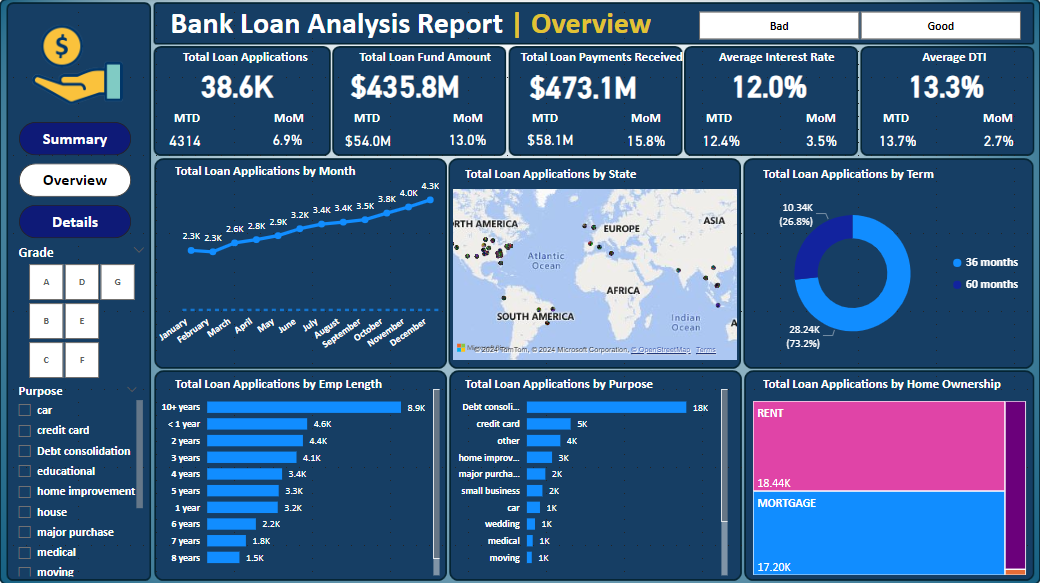

This screenshot's page, from the dashboard's own definition file:
{"tool":"powerbi","page":{"name":"Overview","canvas":[1280,720],"ordinal":1},"visuals":[{"type":"card","fields":{"Values":["Measure Table.Total Loan Payment Amount Received"]},"box":[641.1,75.1,152.9,61.4],"z":0},{"type":"card","fields":{"Values":["Measure Table.Tota Loan Fund Amount"]},"box":[421.8,72.2,152.9,64.3],"z":1000},{"type":"card","fields":{"Values":["Measure Table.Total loan applications"]},"box":[228.8,73.8,125.3,62.7],"z":2000},{"type":"card","fields":{"Values":["Measure Table.Average Of DTI"]},"box":[1101.3,73.8,125.3,62.7],"z":3000},{"type":"card","fields":{"Values":["Measure Table.Average Interest Rate"]},"box":[883.8,73.8,125.3,62.7],"z":4000},{"type":"textbox","box":[629.4,56,223.6,30.9],"z":5000},{"type":"textbox","box":[430.3,56,185.3,29.3],"z":6000},{"type":"textbox","box":[209.3,56,185.3,29.3],"z":7000},{"type":"textbox","box":[1081.8,56,185.3,29.3],"z":8000},{"type":"textbox","box":[844.4,56,223.6,30.9],"z":9000},{"type":"textbox","box":[649.3,131.8,93.3,40],"z":10000},{"type":"textbox","box":[430.3,131.8,93.3,40],"z":11000},{"type":"textbox","box":[209.3,131.8,93.3,40],"z":12000},{"type":"textbox","box":[1081.8,131.8,93.3,40],"z":13000},{"type":"textbox","box":[864.4,131.8,93.3,40],"z":14000},{"type":"textbox","box":[772,131.8,62.7,40],"z":15000},{"type":"textbox","box":[553,131.8,62.7,40],"z":16000},{"type":"textbox","box":[332,131.8,62.7,40],"z":17000},{"type":"textbox","box":[1204.5,131.8,62.7,40],"z":18000},{"type":"textbox","box":[987.1,131.8,62.7,40],"z":19000},{"type":"textbox","box":[190,1.2,632.5,61.2],"z":20000},{"type":"card","fields":{"Values":["Measure Table.MTD Total Loan Payments Received"]},"box":[636.4,156.4,81.8,34.5],"z":21000},{"type":"card","fields":{"Values":["Measure Table.MTD Total Loan Fund Amount"]},"box":[410.8,157.2,83.8,33.8],"z":22000},{"type":"card","fields":{"Values":["Measure Table.MTD Total Loan Applications"]},"box":[200,157.3,56.4,33.6],"z":23000},{"type":"card","fields":{"Values":["Measure Table.MTD Average DTI"]},"box":[1068.2,157.3,72.7,33.6],"z":24000},{"type":"card","fields":{"Values":["Measure Table.MTD Average Interest Rate"]},"box":[852.7,157.3,69.1,33.6],"z":25000},{"type":"card","fields":{"Values":["Measure Table.MoM Total Loan Payment Received"]},"box":[755.5,157.3,78.2,33.6],"z":26000},{"type":"card","fields":{"Values":["Measure Table.MoM Total Loan Fund Amount"]},"box":[546.3,157.6,57.3,33.3],"z":27000},{"type":"card","fields":{"Values":["Measure Table.MoM Total Loan Applications"]},"box":[325.3,157.6,57.3,33.3],"z":28000},{"type":"card","fields":{"Values":["Measure Table.MoM Average DTI"]},"box":[1191.8,157.3,75.5,33.6],"z":29000},{"type":"card","fields":{"Values":["Measure Table.MoM Average Interest Rate"]},"box":[980,157.3,62.7,33.6],"z":30000},{"type":"slicer","fields":{"Values":["financial_loan.Good_bad"]},"box":[834,8,446,48],"z":31000},{"type":"slicer","fields":{"Values":["financial_loan.grade"]},"box":[10,295,180,178],"z":33000},{"type":"slicer","fields":{"Values":["financial_loan.purpose"]},"box":[10,467.5,171.2,247.5],"z":34000},{"type":"lineChart","fields":{"Y":["CountNonNull(financial_loan.id)"],"Category":["financial_loan.issue_date.Variation.Date Hierarchy.Month"]},"box":[190,211.4,355.7,237.1],"z":41000},{"type":"textbox","box":[210,197.1,267.1,31.4],"z":42000},{"type":"textbox","box":[567.1,200,267.1,31.4],"z":43000},{"type":"textbox","box":[934.3,200,267.1,31.4],"z":44000},{"type":"textbox","box":[210,458.6,285.7,31.4],"z":45000},{"type":"textbox","box":[567.1,458.6,267.1,31.4],"z":46000},{"type":"textbox","box":[934.3,458.6,332.9,31.4],"z":47000},{"type":"treemap","fields":{"Values":["CountNonNull(financial_loan.id)"],"Group":["financial_loan.home_ownership"]},"box":[921.4,490,345.7,224.3],"z":48000},{"type":"clusteredBarChart","fields":{"Category":["financial_loan.purpose"],"Y":["CountNonNull(financial_loan.id)"]},"box":[546.7,467.8,354.4,246.7],"z":49000},{"type":"clusteredBarChart","fields":{"Y":["CountNonNull(financial_loan.id)"],"Category":["financial_loan.emp_length"]},"box":[192.2,467.8,354.4,246.7],"z":50000},{"type":"map","fields":{"Category":["financial_loan.address_state"],"Series":["financial_loan.id"]},"box":[552.9,228.6,358.6,220],"z":51000},{"type":"donutChart","fields":{"Category":["financial_loan.term"],"Y":["CountNonNull(financial_loan.id)"]},"box":[921.4,228.6,345.7,217.1],"z":52000},{"type":"image","box":[10,1.2,171.2,158.8],"z":53000},{"type":"pageNavigator","box":[23.8,151.2,138.8,143.8],"z":53001}]}

Visuals, with their boxes in screenshot pixels (x1, y1, x2, y2), scaled from the page's 1280x720 canvas onto the 1040x583 screenshot:
card - Measure Table.Total Loan Payment Amount Received: 521, 61, 645, 111
card - Measure Table.Tota Loan Fund Amount: 343, 58, 467, 111
card - Measure Table.Total loan applications: 186, 60, 288, 111
card - Measure Table.Average Of DTI: 895, 60, 997, 111
card - Measure Table.Average Interest Rate: 718, 60, 820, 111
textbox: 511, 45, 693, 70
textbox: 350, 45, 500, 69
textbox: 170, 45, 321, 69
textbox: 879, 45, 1030, 69
textbox: 686, 45, 868, 70
textbox: 528, 107, 603, 139
textbox: 350, 107, 425, 139
textbox: 170, 107, 246, 139
textbox: 879, 107, 955, 139
textbox: 702, 107, 778, 139
textbox: 627, 107, 678, 139
textbox: 449, 107, 500, 139
textbox: 270, 107, 321, 139
textbox: 979, 107, 1030, 139
textbox: 802, 107, 853, 139
textbox: 154, 1, 668, 51
card - Measure Table.MTD Total Loan Payments Received: 517, 127, 584, 155
card - Measure Table.MTD Total Loan Fund Amount: 334, 127, 402, 155
card - Measure Table.MTD Total Loan Applications: 162, 127, 208, 155
card - Measure Table.MTD Average DTI: 868, 127, 927, 155
card - Measure Table.MTD Average Interest Rate: 693, 127, 749, 155
card - Measure Table.MoM Total Loan Payment Received: 614, 127, 677, 155
card - Measure Table.MoM Total Loan Fund Amount: 444, 128, 490, 155
card - Measure Table.MoM Total Loan Applications: 264, 128, 311, 155
card - Measure Table.MoM Average DTI: 968, 127, 1030, 155
card - Measure Table.MoM Average Interest Rate: 796, 127, 847, 155
slicer - financial_loan.Good_bad: 678, 6, 1039, 45
slicer - financial_loan.grade: 8, 239, 154, 383
slicer - financial_loan.purpose: 8, 379, 147, 579
lineChart - CountNonNull(financial_loan.id) x financial_loan.issue_date.Variation.Date Hierarchy.Month: 154, 171, 443, 363
textbox: 171, 160, 388, 185
textbox: 461, 162, 678, 187
textbox: 759, 162, 976, 187
textbox: 171, 371, 403, 397
textbox: 461, 371, 678, 397
textbox: 759, 371, 1030, 397
treemap - CountNonNull(financial_loan.id) x financial_loan.home_ownership: 749, 397, 1030, 578
clusteredBarChart - financial_loan.purpose x CountNonNull(financial_loan.id): 444, 379, 732, 579
clusteredBarChart - CountNonNull(financial_loan.id) x financial_loan.emp_length: 156, 379, 444, 579
map - financial_loan.address_state x financial_loan.id: 449, 185, 741, 363
donutChart - financial_loan.term x CountNonNull(financial_loan.id): 749, 185, 1030, 361
image: 8, 1, 147, 130
pageNavigator: 19, 122, 132, 239
